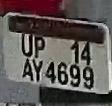1: (68, 41, 81, 64)
4: (44, 60, 58, 86), (79, 42, 93, 67)
6: (57, 60, 69, 85)
9: (68, 64, 82, 90), (80, 66, 94, 91)
A: (22, 58, 34, 83)
P: (33, 34, 44, 60)
U: (16, 31, 35, 59)
Y: (33, 58, 44, 84)
